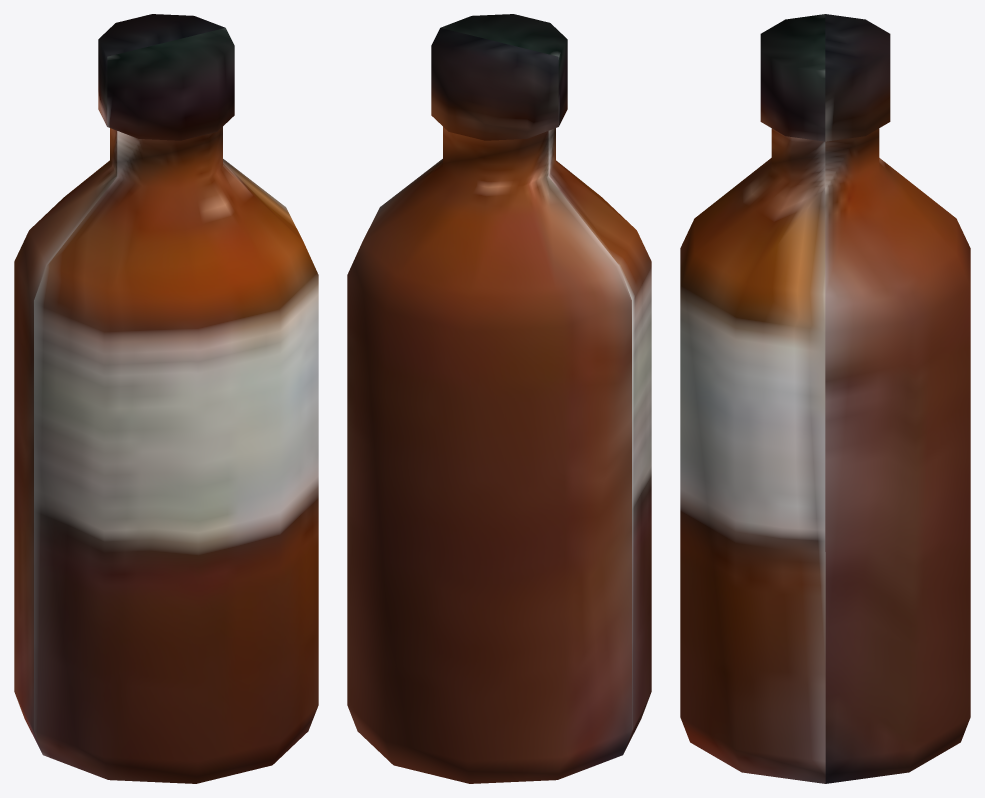
File: peroxide.FBX
3 renders of one model, left to right at view 1: azimuth 30°, elevation 25°; view 2: azimuth 150°, elevation 25°; view 3: azimuth 270°, elevation 25°, orthographic.
Visible parts, largest first — view 1: peroxide; view 2: peroxide; view 3: peroxide.
Boxes of the visible parts, x1,y1,x2,y2 form: peroxide: (14,14,318,783); peroxide: (347,14,651,783); peroxide: (680,14,970,783).
Bounding box in the file's own units: 29.89 × 74.48 × 28.43.
